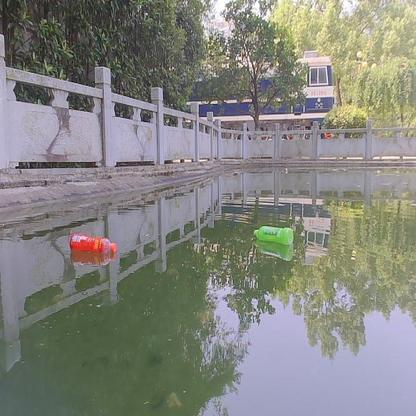plastic bottle: (70, 233, 117, 257), (253, 226, 293, 244)
